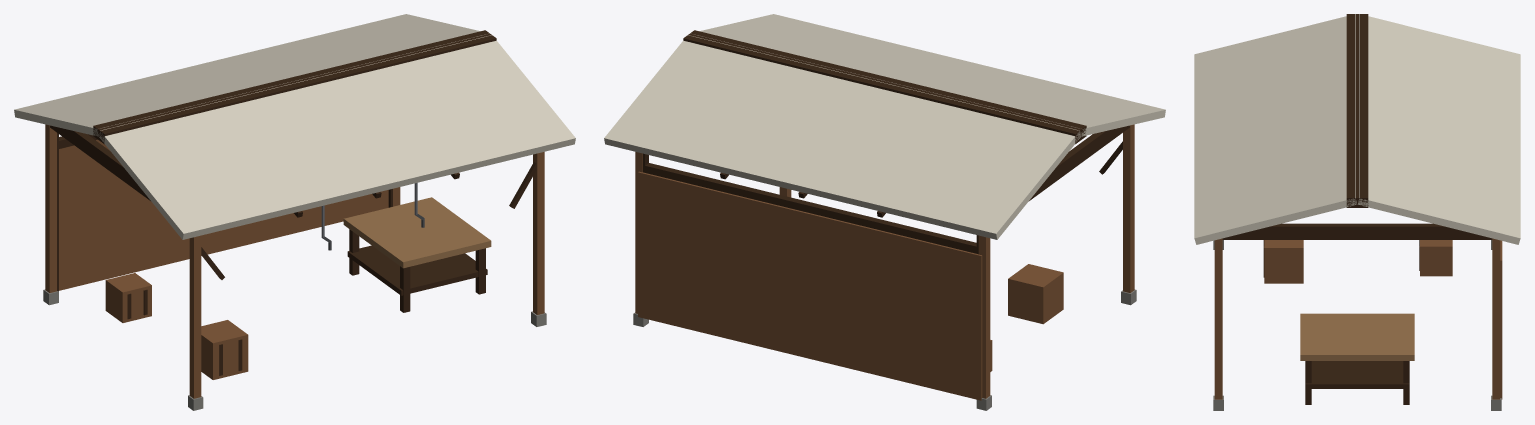
Rendered from SN_HT_Cargo_Shed.glb.
The picture shows the model from 3 angles, left to right: view 1: azimuth 30°, elevation 25°; view 2: azimuth 150°, elevation 25°; view 3: azimuth 270°, elevation 25°; orthographic projection. The views are drawn at different scales.
Parts seen in each view (by area): view 1: SN_HT_Cargo_Shed; view 2: SN_HT_Cargo_Shed; view 3: SN_HT_Cargo_Shed.
Part boxes in pixels (x1,y1,x2,y2): SN_HT_Cargo_Shed: (14, 14, 575, 410); SN_HT_Cargo_Shed: (604, 14, 1165, 410); SN_HT_Cargo_Shed: (1194, 14, 1520, 410).
Bounding box in the file's own units: 8 × 4.5 × 5.99.
